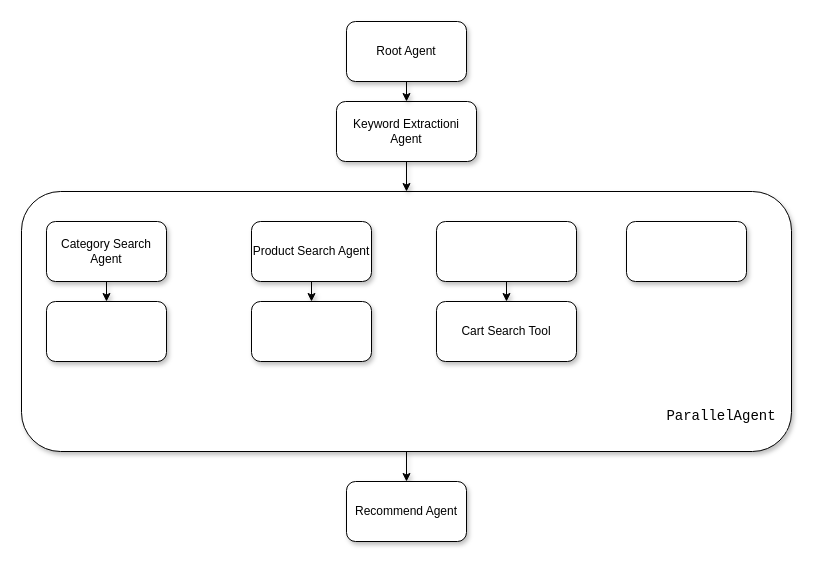
Image size: 815x566. Some labels were removed from this diagram. Each missing label, with the centre of its shape:
Cart Search Agent: (507,252)
Category Search Tool: (107,332)
Filter Agent: (687,252)
Product Search Tool: (312,332)
